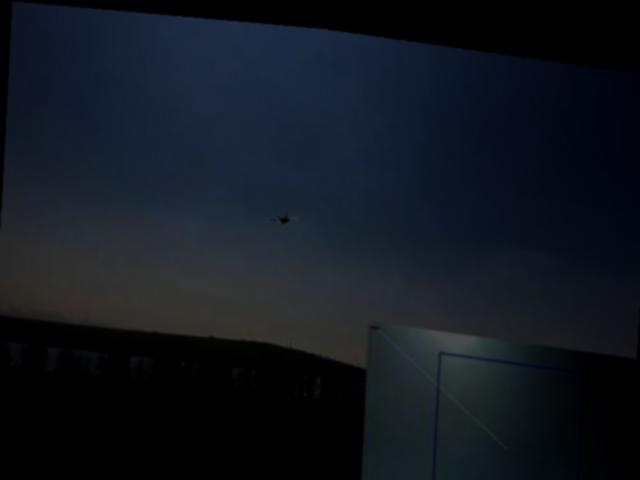uav: (268, 204, 300, 224)
